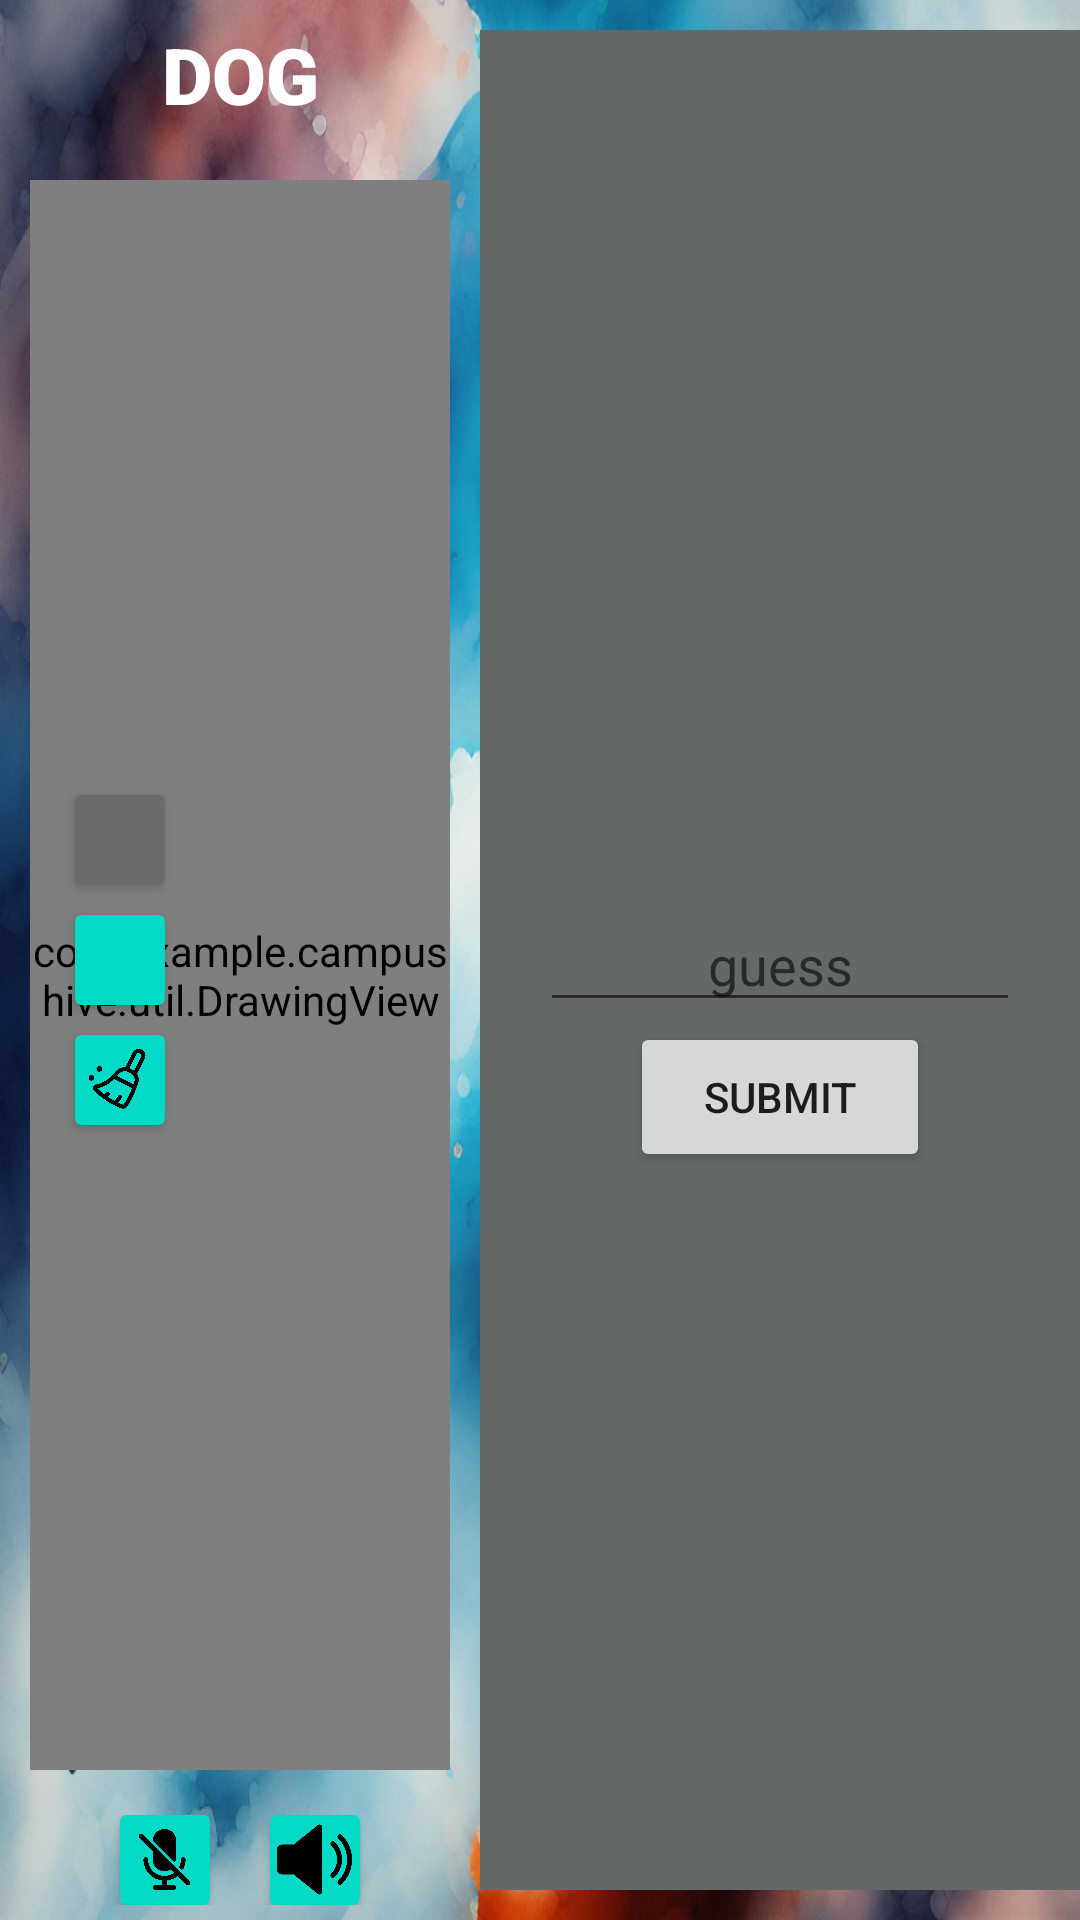

Icon click points for this 1080×1920 phone screenshot, format (x=x, y=y):
clear canvas: (x=117, y=1079)
mic off canvas: (x=164, y=1859)
sound on canvas: (x=314, y=1859)
